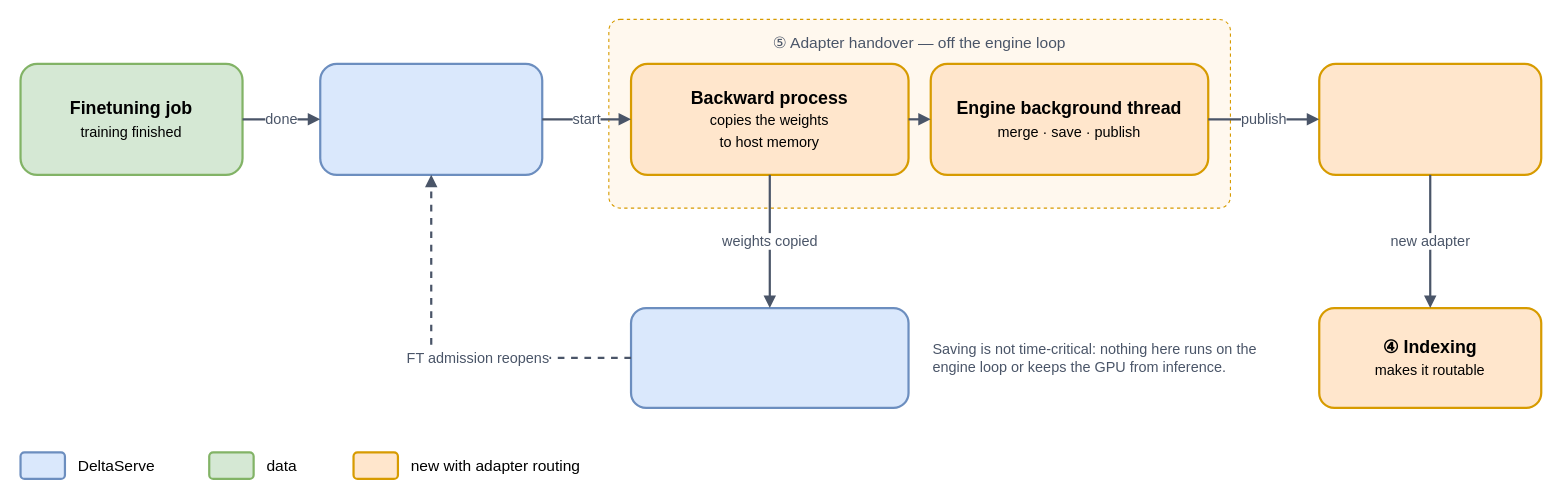
The diagram is 1561 pixels wide and 502 high, and some of its shapes have lost their labels. The shapes that lost their labels are listed below. From the top down, each one's centre as x and y in pixels, then its label:
pixel 431 118: SLO-aware scheduler closes FT admission
pixel 1430 118: Adapter pool the new adapter
pixel 769 357: ③ Backward batch switches to the next job's adapter
